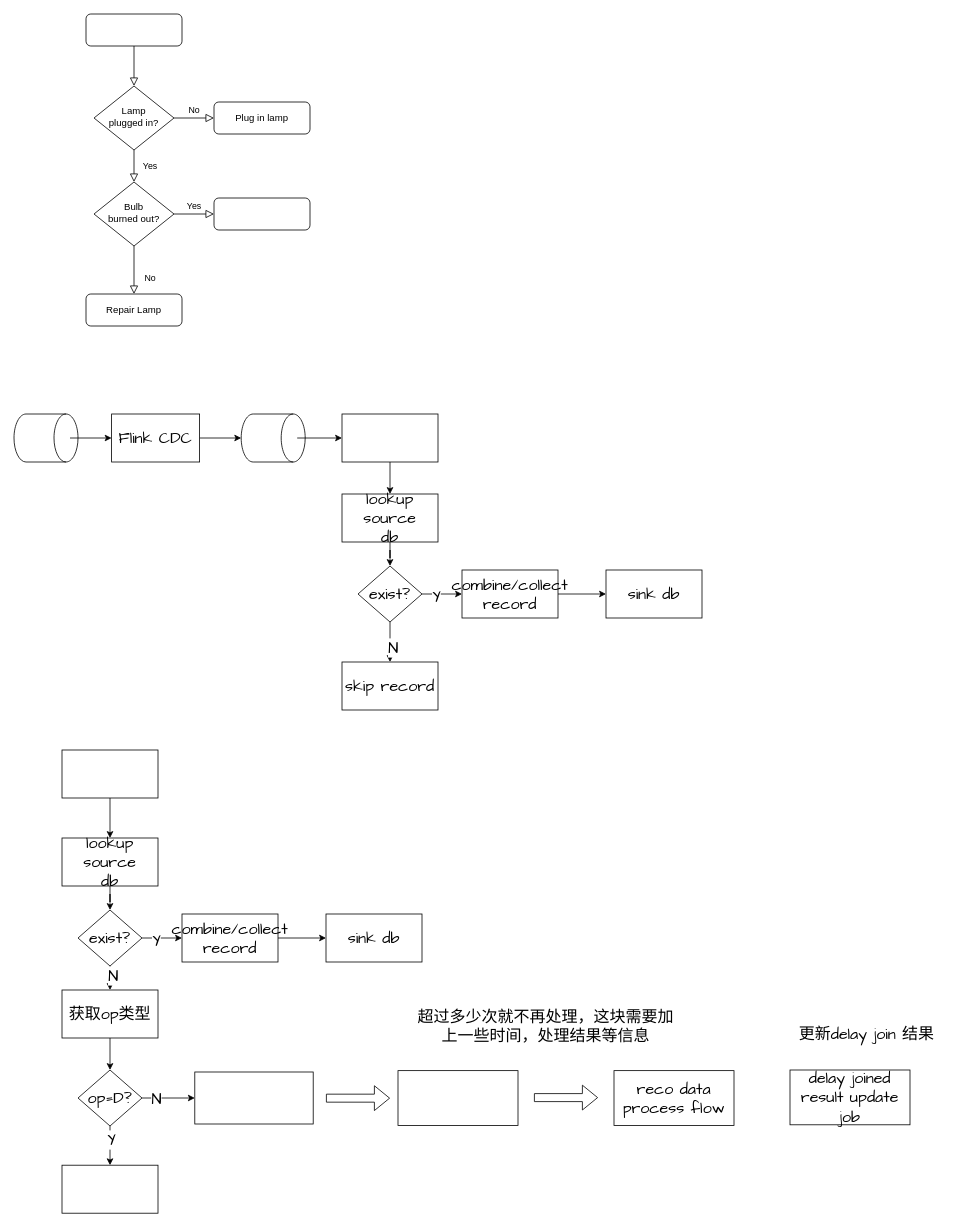
Some shapes in this 965 by 1227 pixel diagram are drawn without their labels. The shapes that lost their labels are listed below. From the top down, each one's centre as x and y in pixels, then its label:
the point at 133,29: Lamp doesn't work
the point at 261,213: Replace Bulb
the point at 45,437: source db
the point at 272,437: Kafka
the point at 389,437: 驱动表数据
the point at 109,773: 收到驱动表记录
the point at 253,1097: 将数据写到MDM延迟队列表
the point at 457,1097: micro service delay join job
the point at 109,1188: collect record
